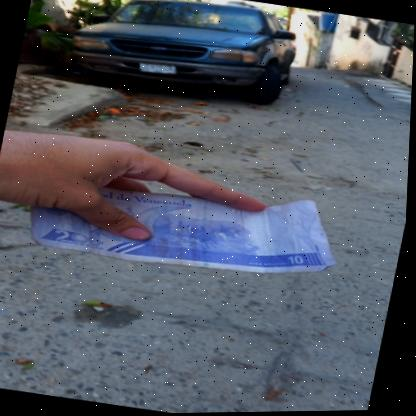ten-back-vef: (25, 157, 350, 293)
